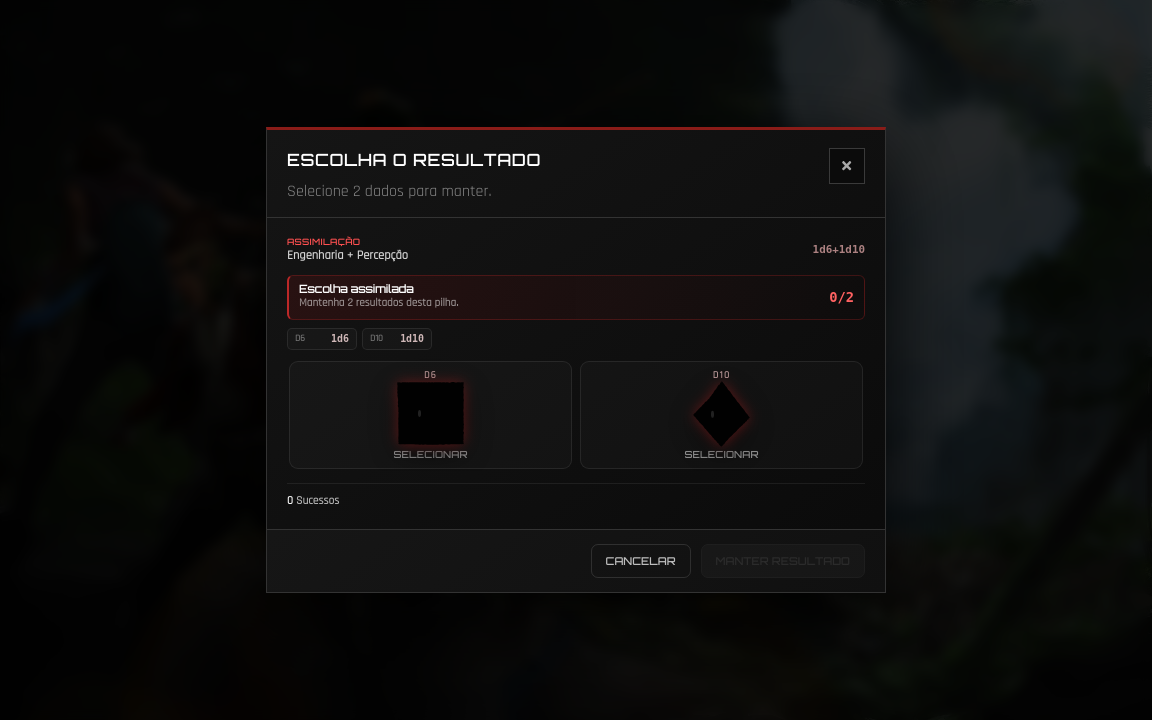
Test: RollKeepSelector › rolagem assimilada exige dois resultados
This screenshot has width=1152, height=720.
What coordinates should you click on to do the following:
click the button with aria-label "Manter dado d6"
I would click on:
 (430, 415)
Its box is [289,361,572,469].
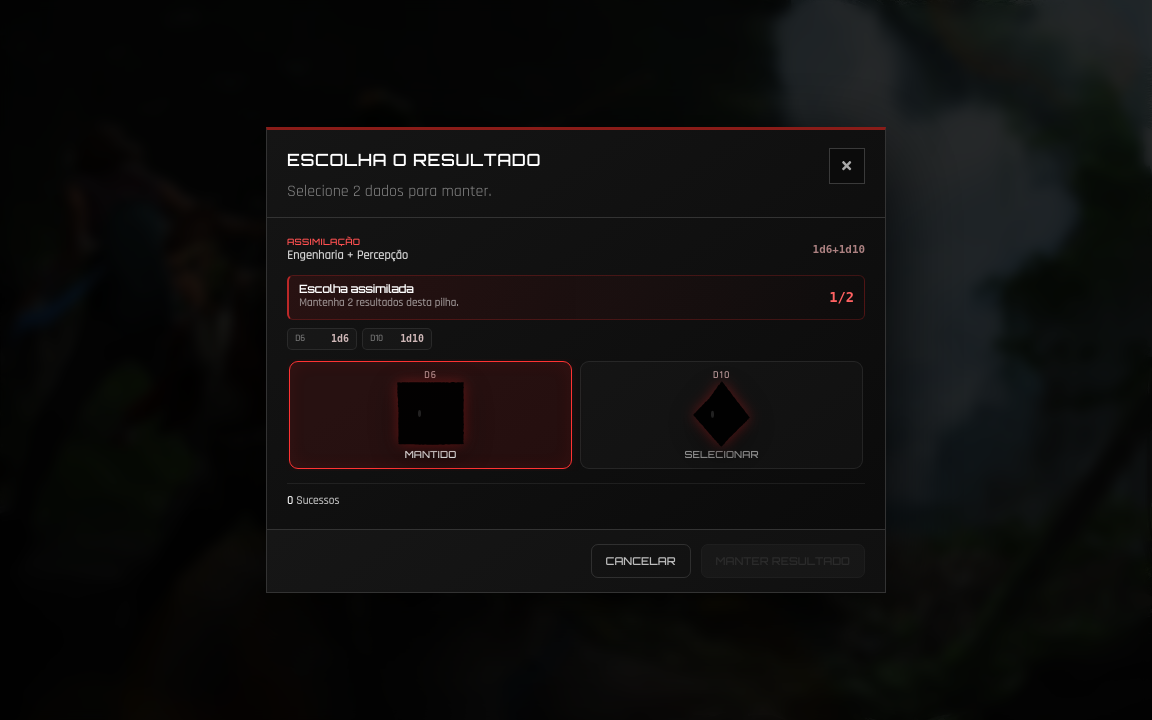
Check: the button "Manter resultado" is disabled, box [701,544,865,578]
What coordinates should you click on to do the following:
click the button with aria-label "Manter dado d10"
I would click on:
 (722, 415)
Its box is [580,361,863,469].
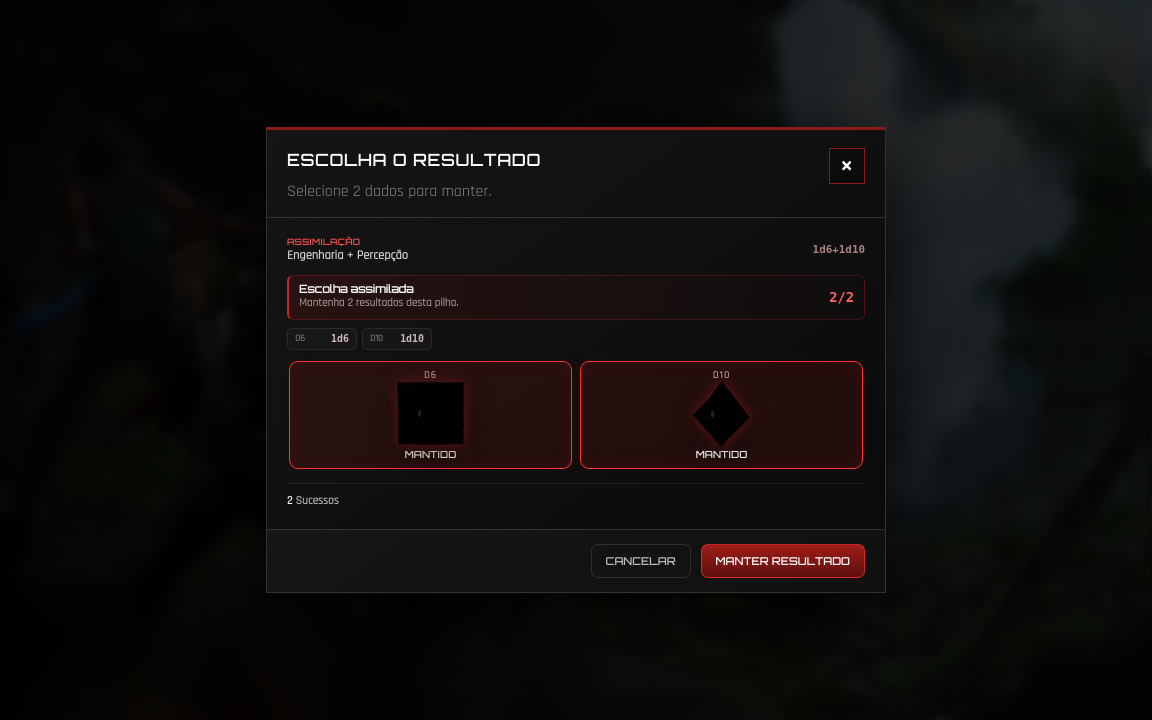
Check: the button "Manter resultado" is enabled, box [701,544,865,578]
